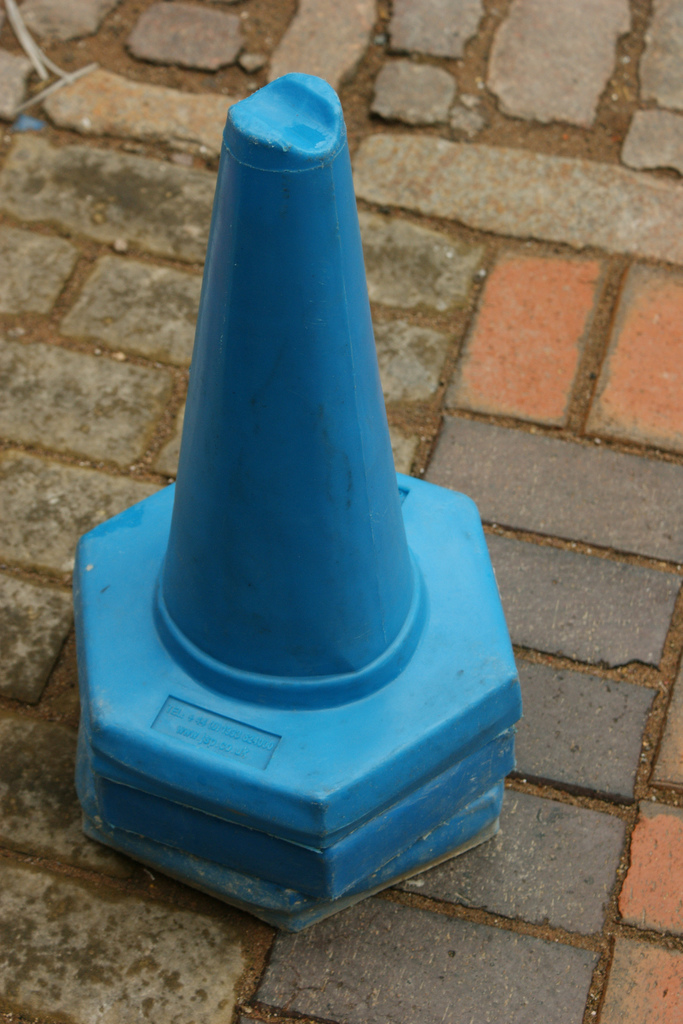cone: (58, 67, 532, 851)
